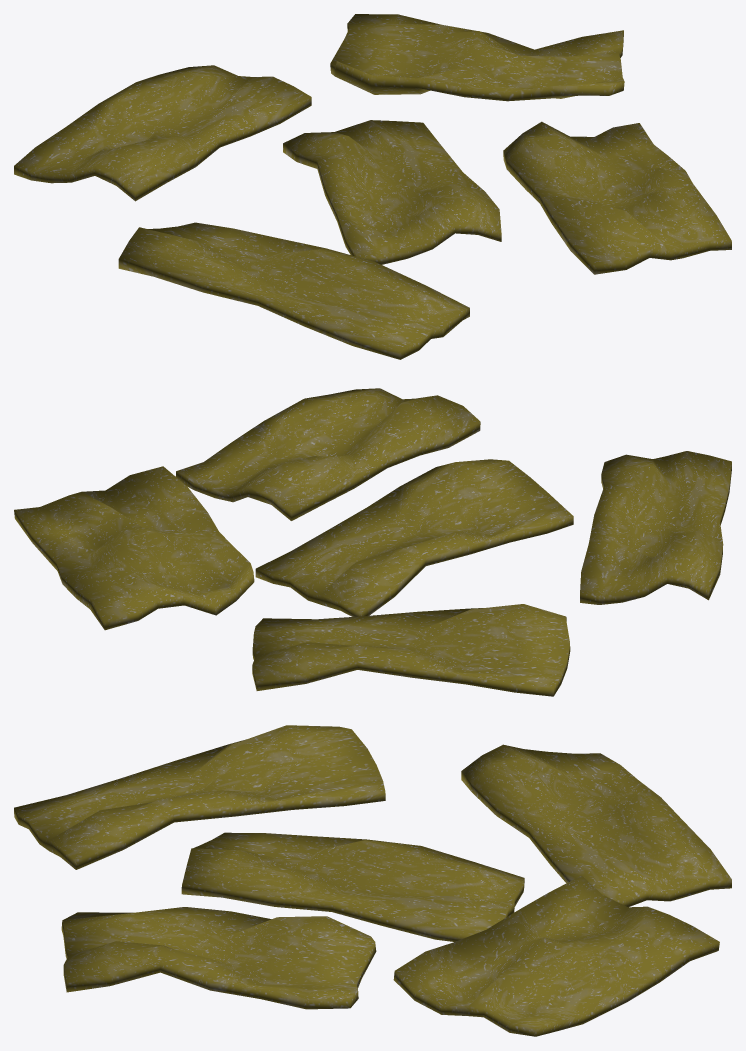
The model's file is yakiniku_00_d.glb.
3 renders of one model, top to bottom at view 1: azimuth 30°, elevation 25°; view 2: azimuth 150°, elevation 25°; view 3: azimuth 270°, elevation 25°, orthographic. The views are drawn at different scales.
Parts seen in each view (by area): view 1: yakiniku; view 2: yakiniku; view 3: yakiniku.
Part boxes in pixels (x1,y1,x2,y2): yakiniku: (14, 14, 731, 359); yakiniku: (14, 388, 731, 696); yakiniku: (14, 725, 731, 1036).
Size of the model in its own units: 0.1823 by 0.0146 by 0.1811.
1 material, 1 textured.
